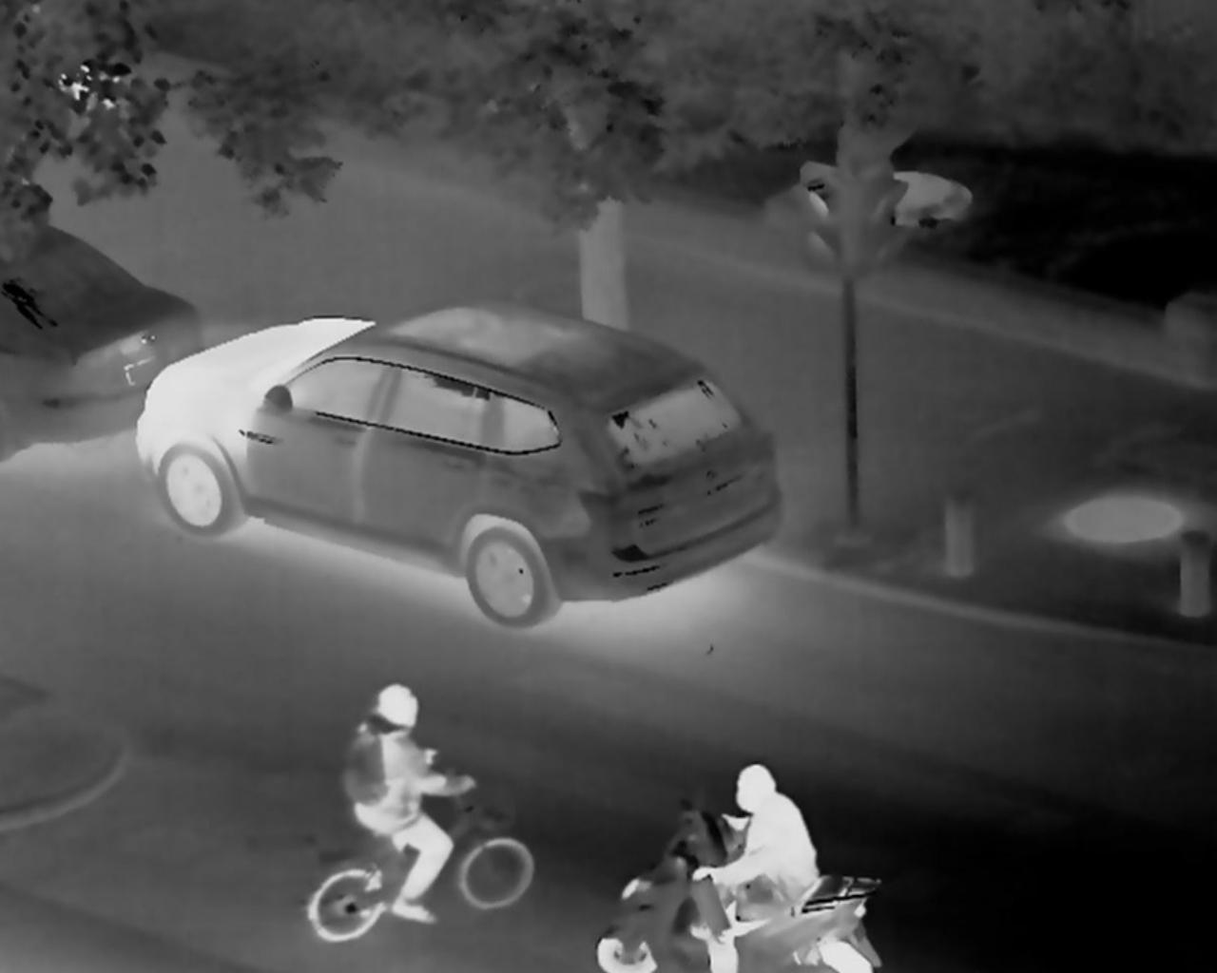person: (314, 663, 454, 942), (662, 747, 821, 973)
